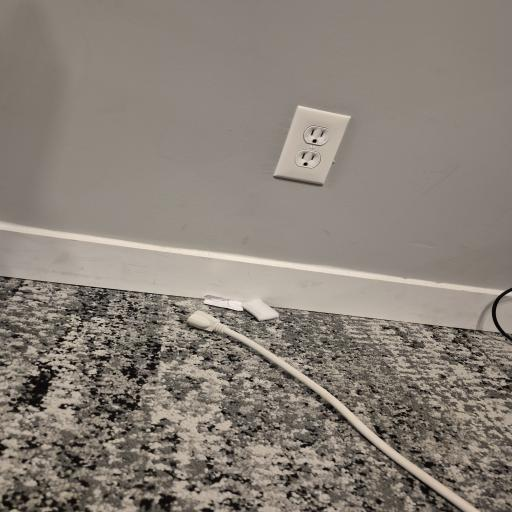outlet: (285, 101, 341, 187)
